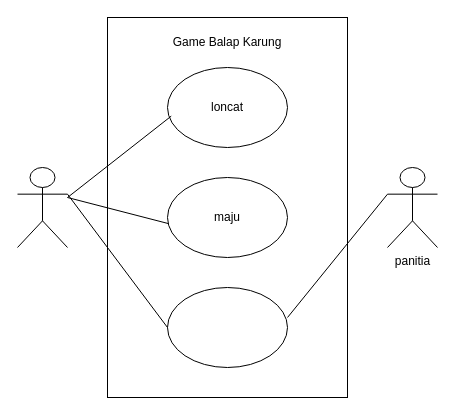
This 455x415 diagram has some shape labels left out. Here are the shapes that lost their labels. From the top down, the centre of each, then its label:
At (x=42, y=207): "pemain".
At (x=227, y=327): "cek finish".
